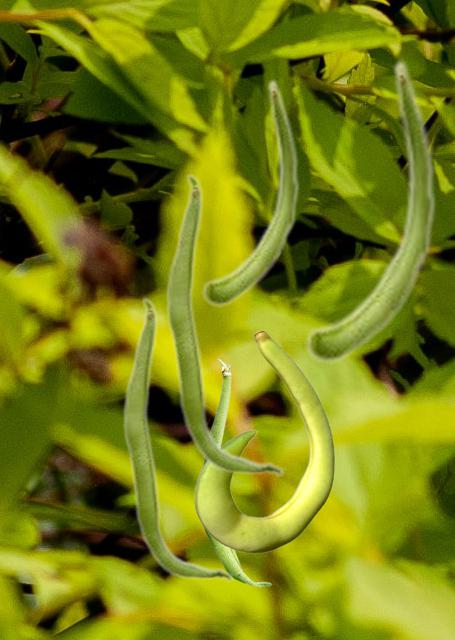french_bean: (304, 58, 436, 363), (164, 172, 285, 477), (121, 296, 234, 582), (194, 330, 334, 552), (201, 78, 299, 306), (202, 358, 271, 586)
